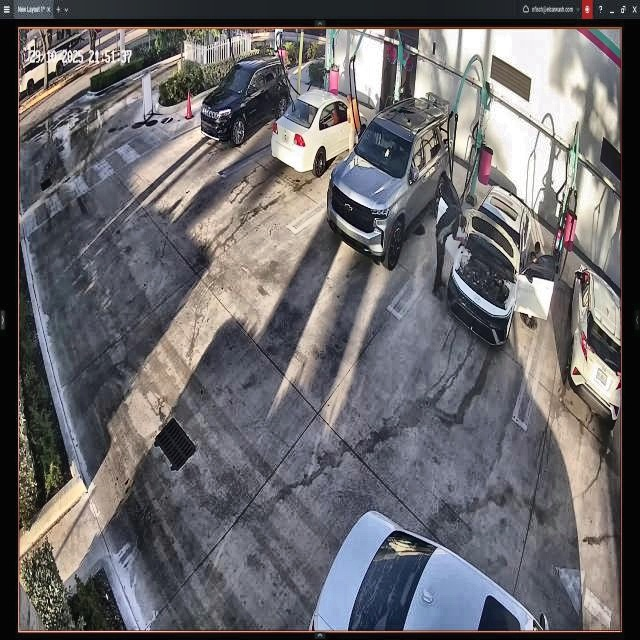Car: (329, 101, 452, 270), (441, 180, 553, 343), (200, 54, 290, 147), (272, 88, 367, 174)
